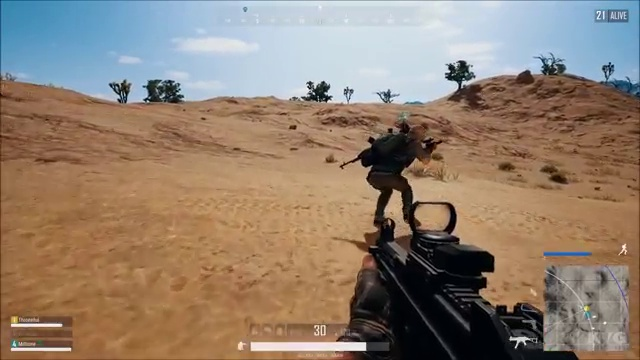Player: (345, 112, 452, 196)
